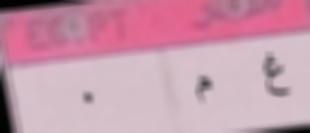0: (77, 84, 102, 112)
ghayn: (253, 47, 299, 104)
meem: (192, 65, 217, 112)
